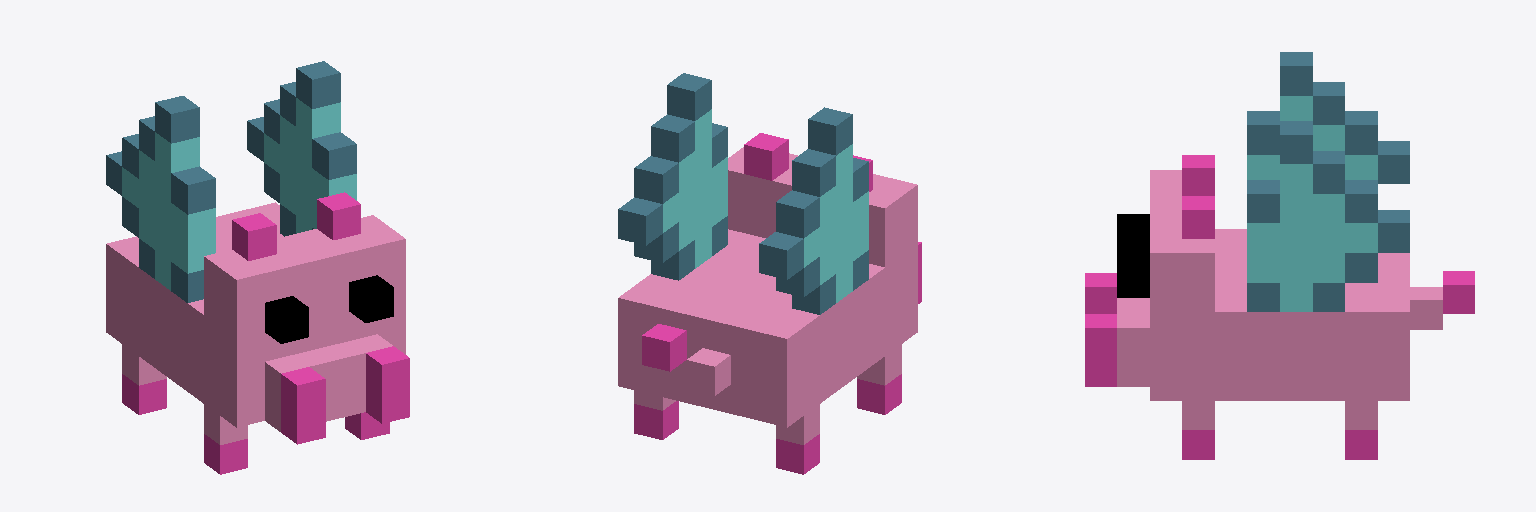
3 renders of one model, left to right at view 1: azimuth 30°, elevation 25°; view 2: azimuth 150°, elevation 25°; view 3: azimuth 270°, elevation 25°, orthographic.
Bounding box in the file's own units: 6 × 11 × 12.
1 materials, 1 textured.